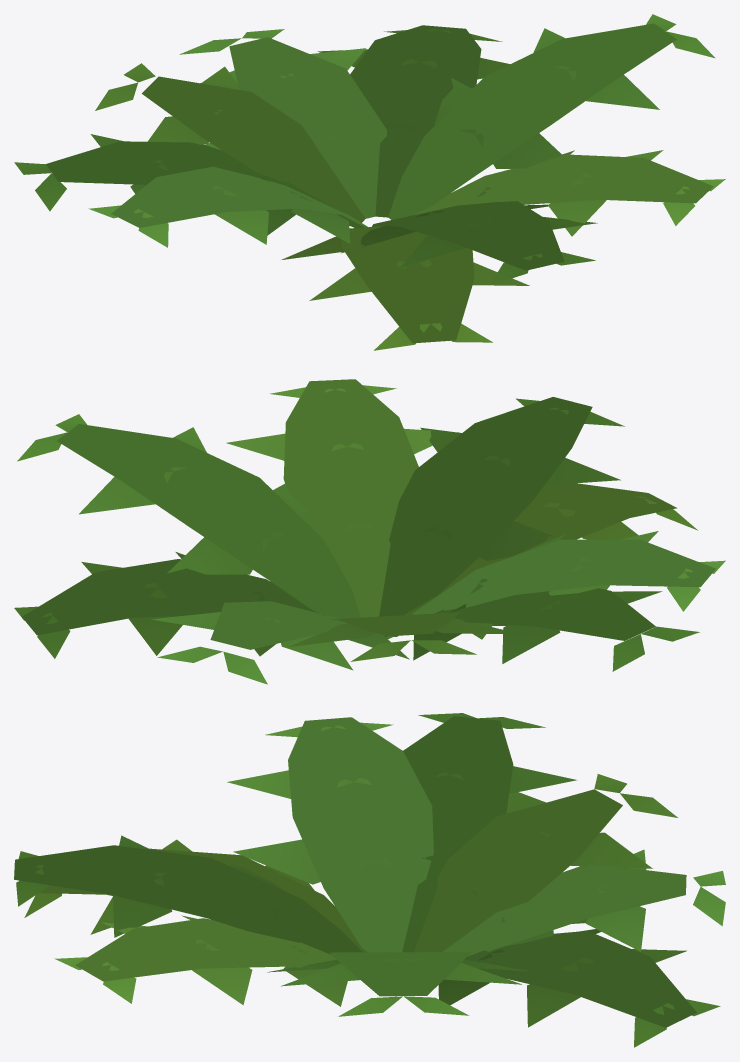
The model's file is fern-lady-a.lod2.glb.
The picture shows the model from 3 angles, top to bottom: view 1: azimuth 30°, elevation 25°; view 2: azimuth 150°, elevation 25°; view 3: azimuth 270°, elevation 25°; orthographic projection. The views are drawn at different scales.
Visible parts, largest first — view 1: fern-lady-a.lod2; view 2: fern-lady-a.lod2; view 3: fern-lady-a.lod2.
Boxes of the visible parts, x1,y1,x2,y2 form: fern-lady-a.lod2: [14, 14, 725, 350]; fern-lady-a.lod2: [14, 379, 725, 684]; fern-lady-a.lod2: [14, 713, 725, 1047].
Size of the model in its own units: 1.39 by 0.2533 by 1.26.
